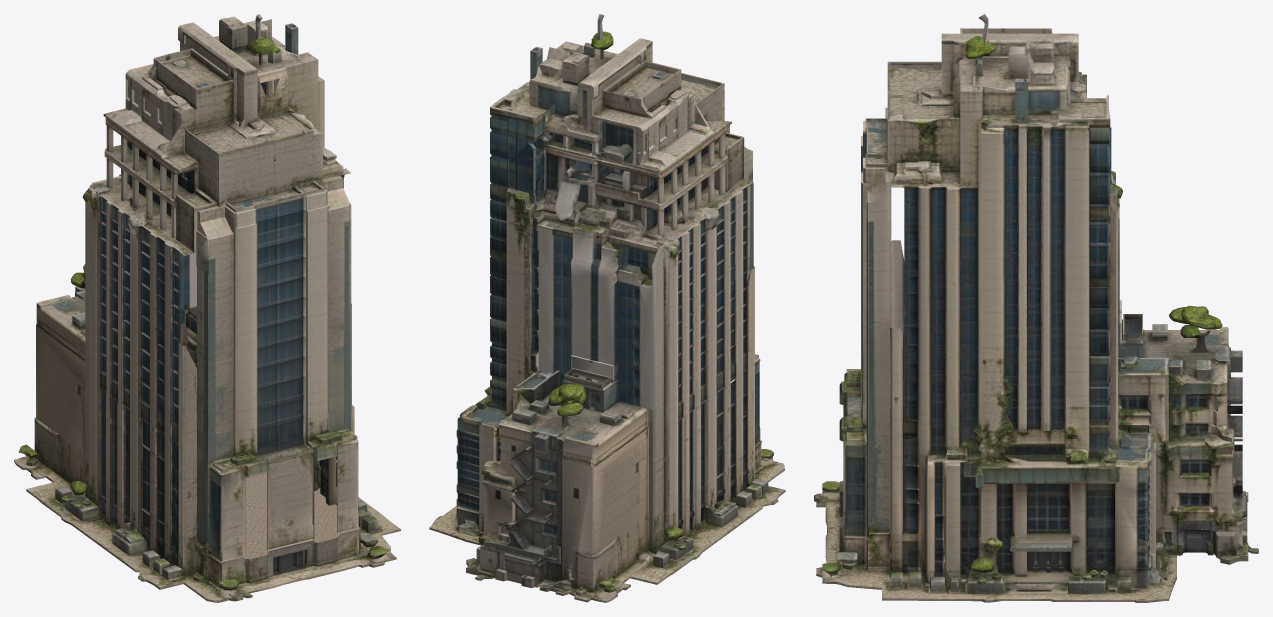
File: stone-rib-tower.glb
3 renders of one model, left to right at view 1: azimuth 30°, elevation 25°; view 2: azimuth 150°, elevation 25°; view 3: azimuth 270°, elevation 25°, orthographic. The views are drawn at different scales.
Parts seen in each view (by area): view 1: tripo_node_be3e8d8c-9814-4bee-b694-dd0ffe5093d6; view 2: tripo_node_be3e8d8c-9814-4bee-b694-dd0ffe5093d6; view 3: tripo_node_be3e8d8c-9814-4bee-b694-dd0ffe5093d6.
Part boxes in pixels (x1,y1,x2,y2): tripo_node_be3e8d8c-9814-4bee-b694-dd0ffe5093d6: [14, 14, 400, 602]; tripo_node_be3e8d8c-9814-4bee-b694-dd0ffe5093d6: [429, 14, 785, 602]; tripo_node_be3e8d8c-9814-4bee-b694-dd0ffe5093d6: [814, 14, 1258, 602].
Bounding box in the file's own units: 0.5147 × 0.9902 × 0.7436.
1 material, 1 textured.
